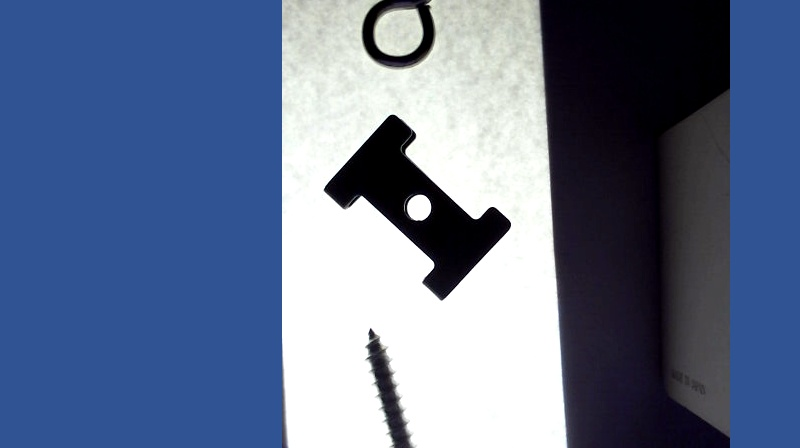O001: (359, 0, 471, 70)
O002: (323, 111, 516, 296)
S001: (361, 325, 448, 447)
